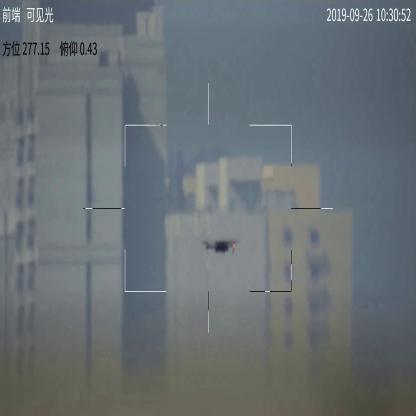uav: (199, 238, 240, 256)
